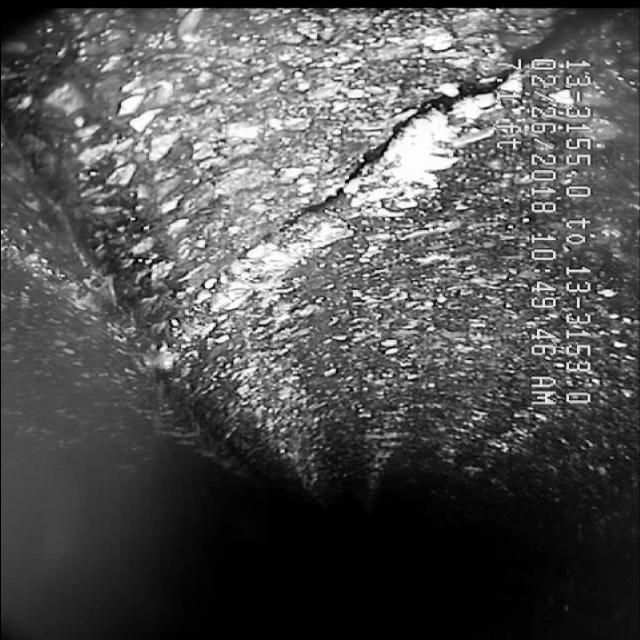Crack: (208, 104, 458, 299)
